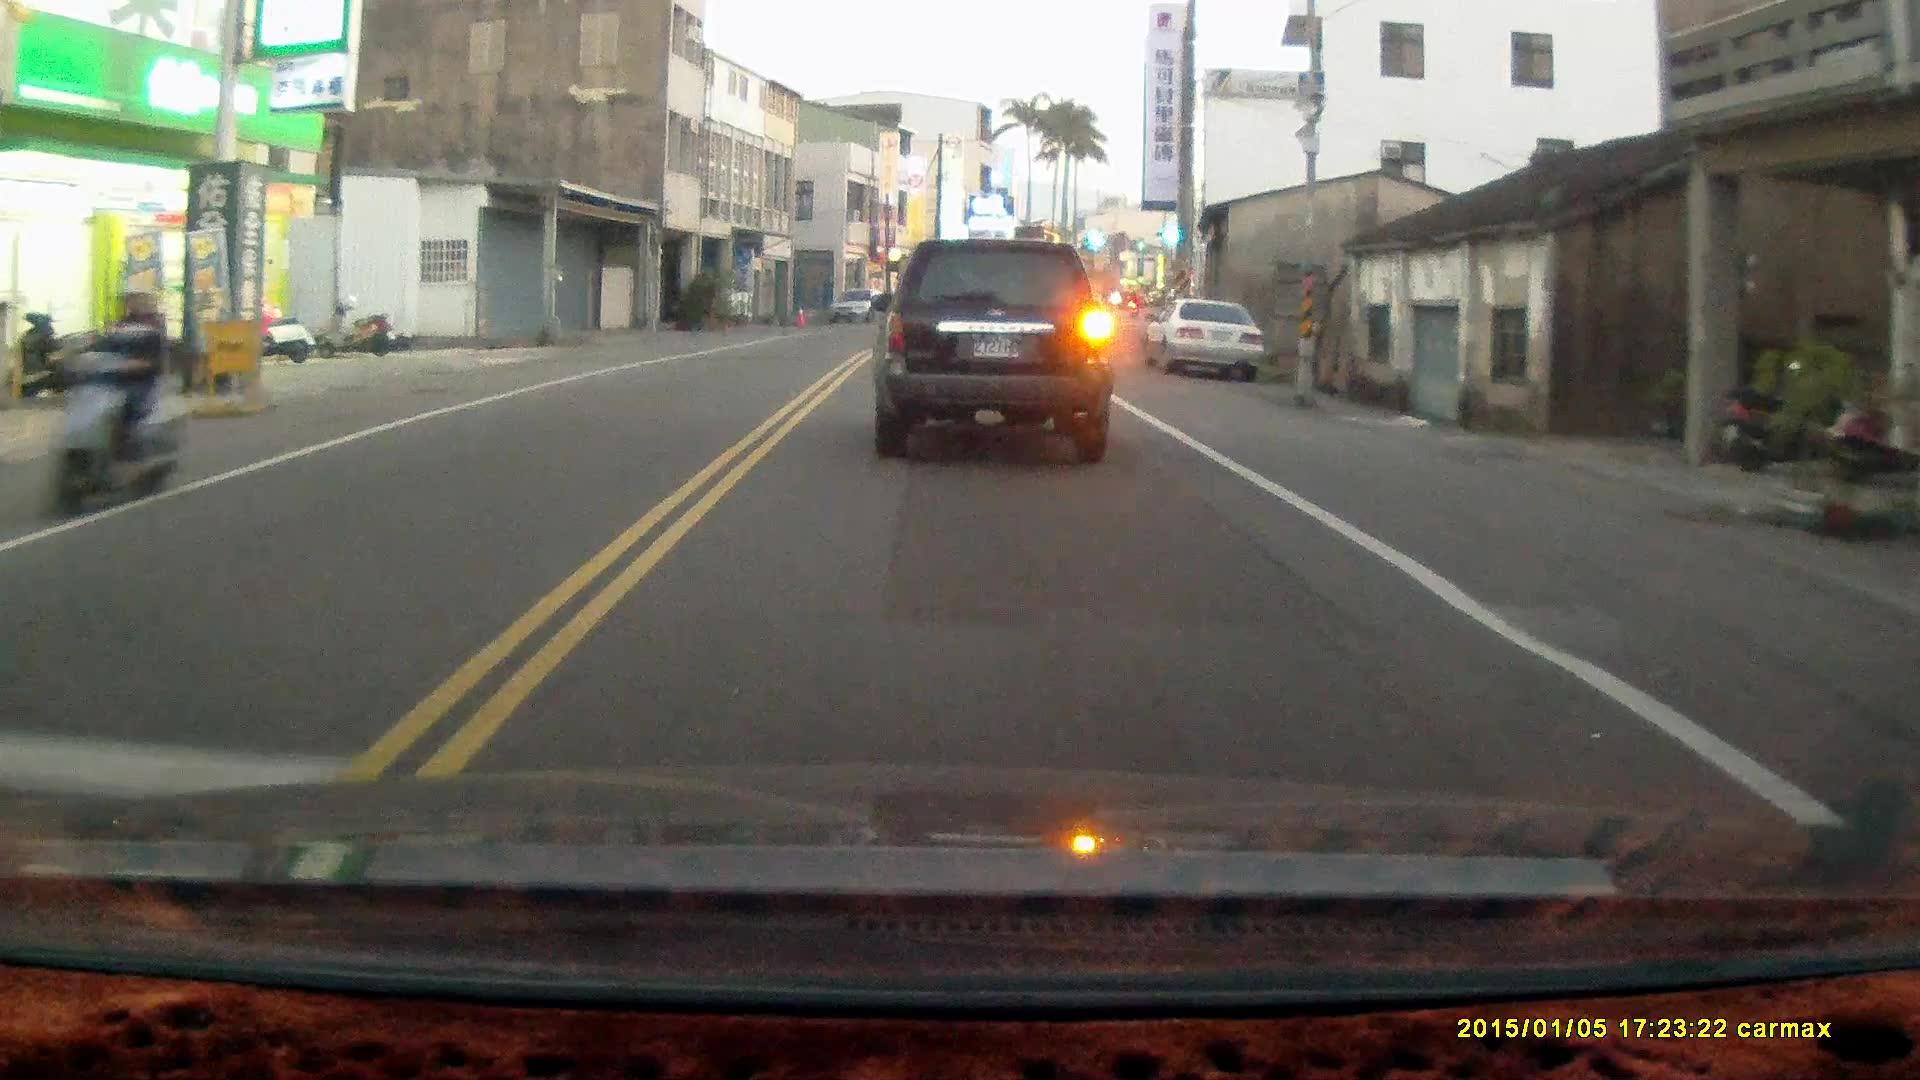rider: (40, 272, 191, 525)
vehicle: (873, 234, 1119, 463), (1146, 302, 1261, 383), (829, 290, 888, 330)
